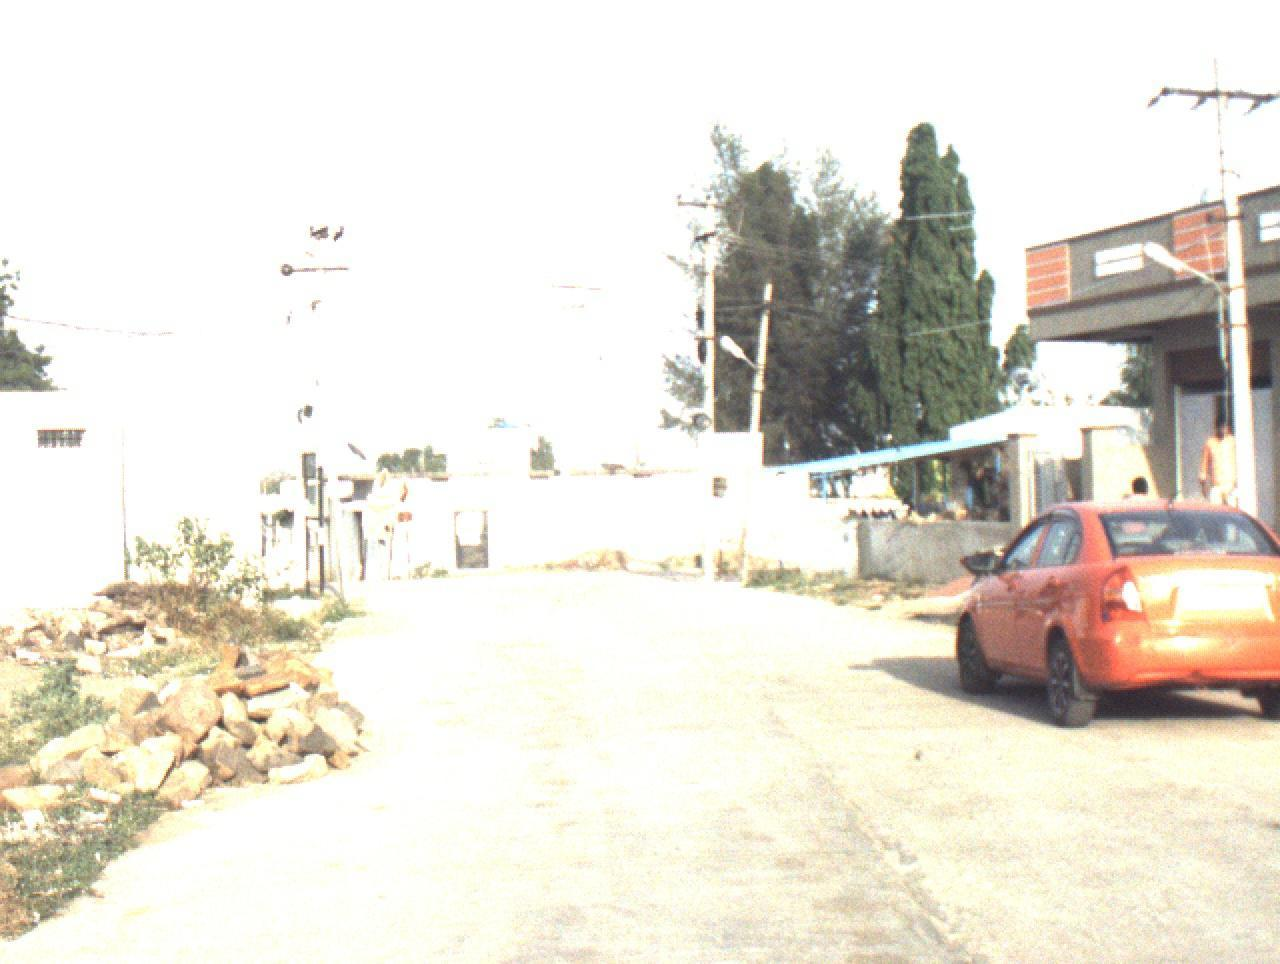off: (0, 0, 1107, 904)
